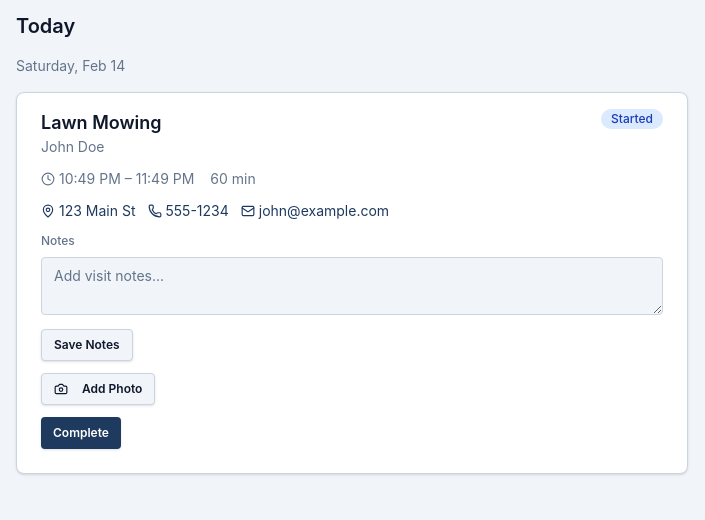
TodayPage completion confirmation › dismisses confirmation on Go Back
The width and height of the screenshot is (705, 520).
Click the button with test id "action-complete".
click(81, 433)  # box [41,417,121,449]
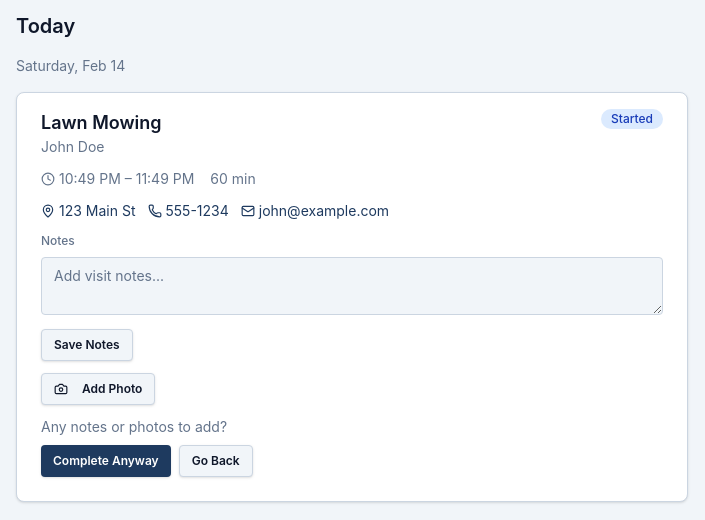
Click the button with test id "cancel-complete".
click(216, 461)  # box [179,445,253,477]
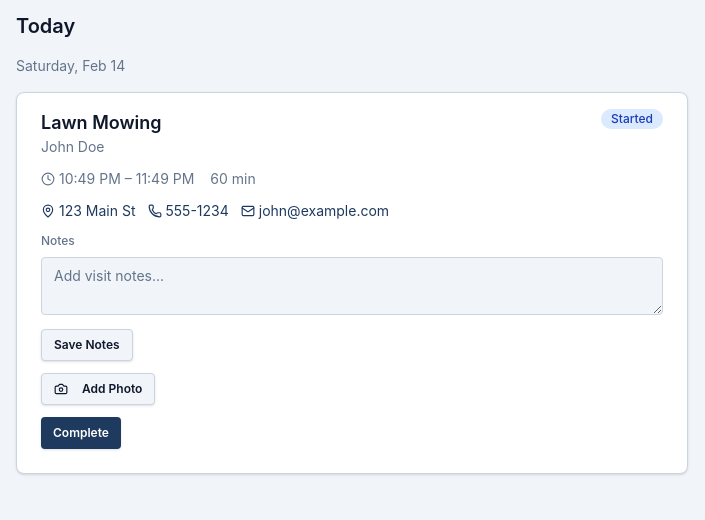
expect the button with test id "action-complete" is shown: met, box [41,417,121,449]
expect the element with test id "confirm-complete" is gone: met
